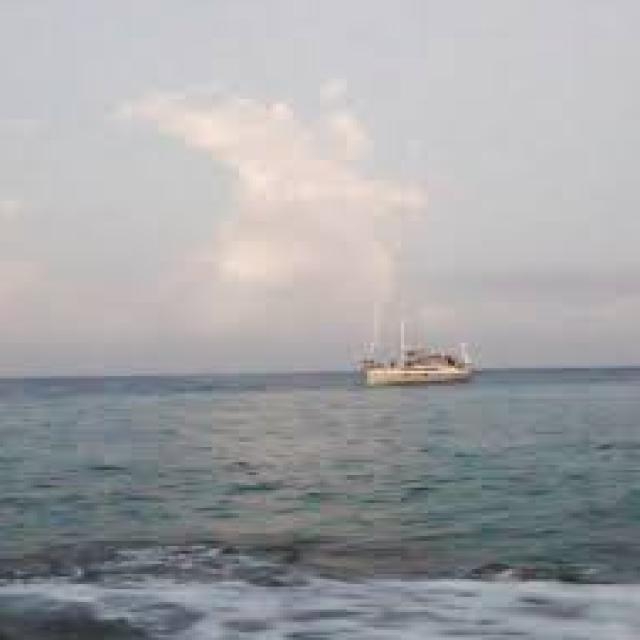passenger ship: (347, 314, 494, 382)
